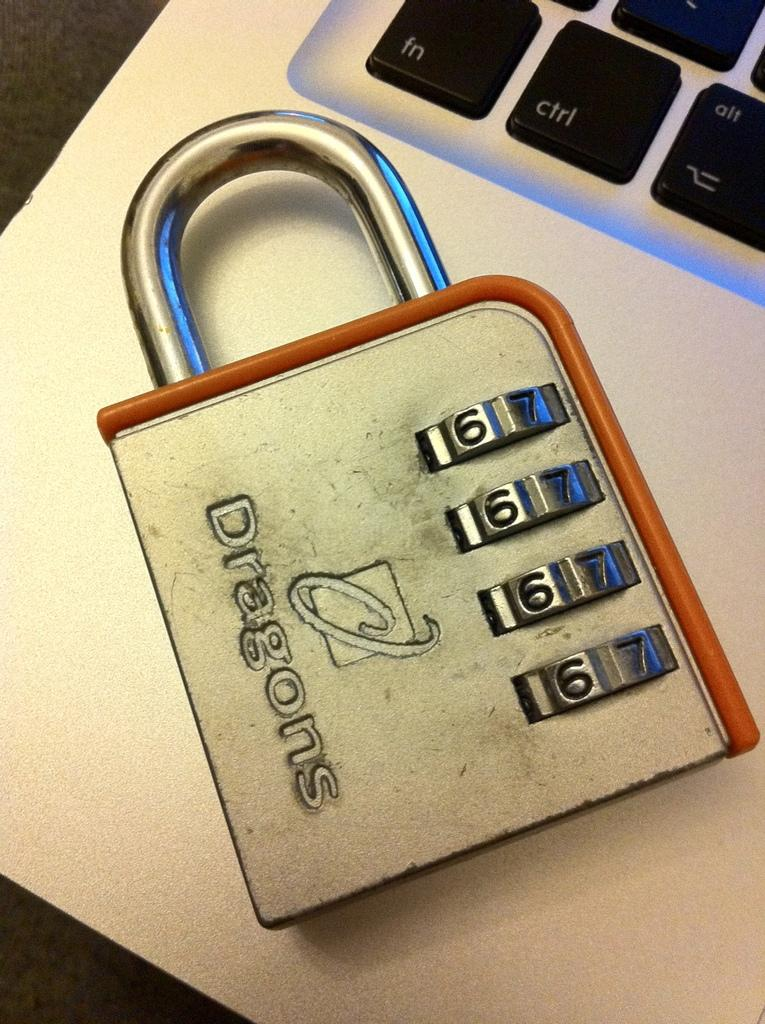Computer-keyboard: (361, 0, 764, 259)
